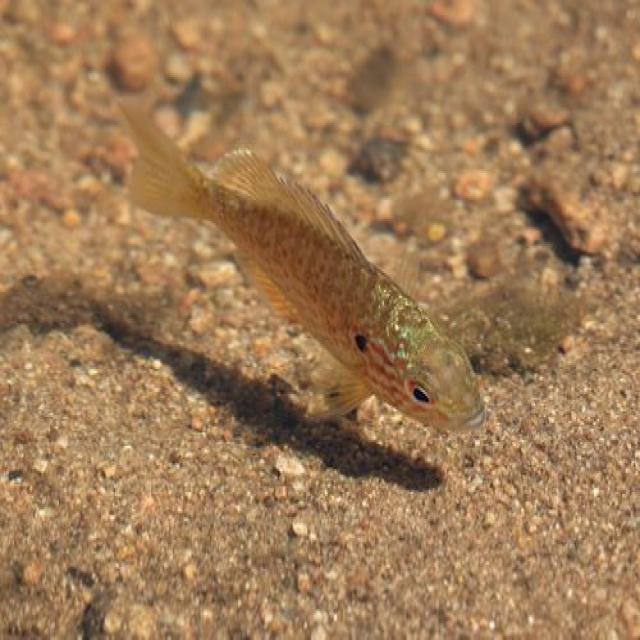Gunes Levregi: (118, 89, 492, 463)
